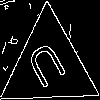U: (24, 40, 73, 98)
